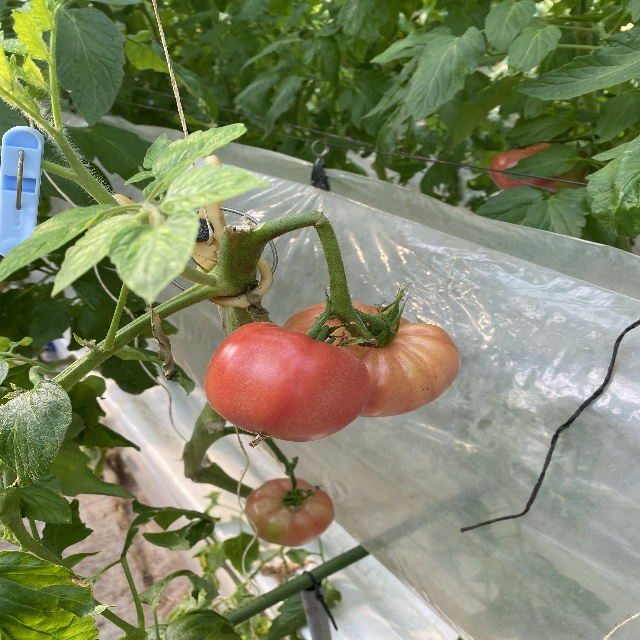b_fully_ripened: (204, 321, 373, 442)
b_half_ripened: (283, 301, 462, 417), (245, 477, 334, 547)
